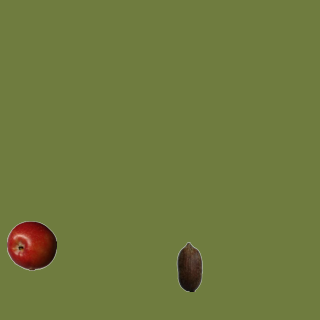Apple Braeburn: (6, 220, 56, 270)
Nut Pecan: (164, 241, 214, 291)
